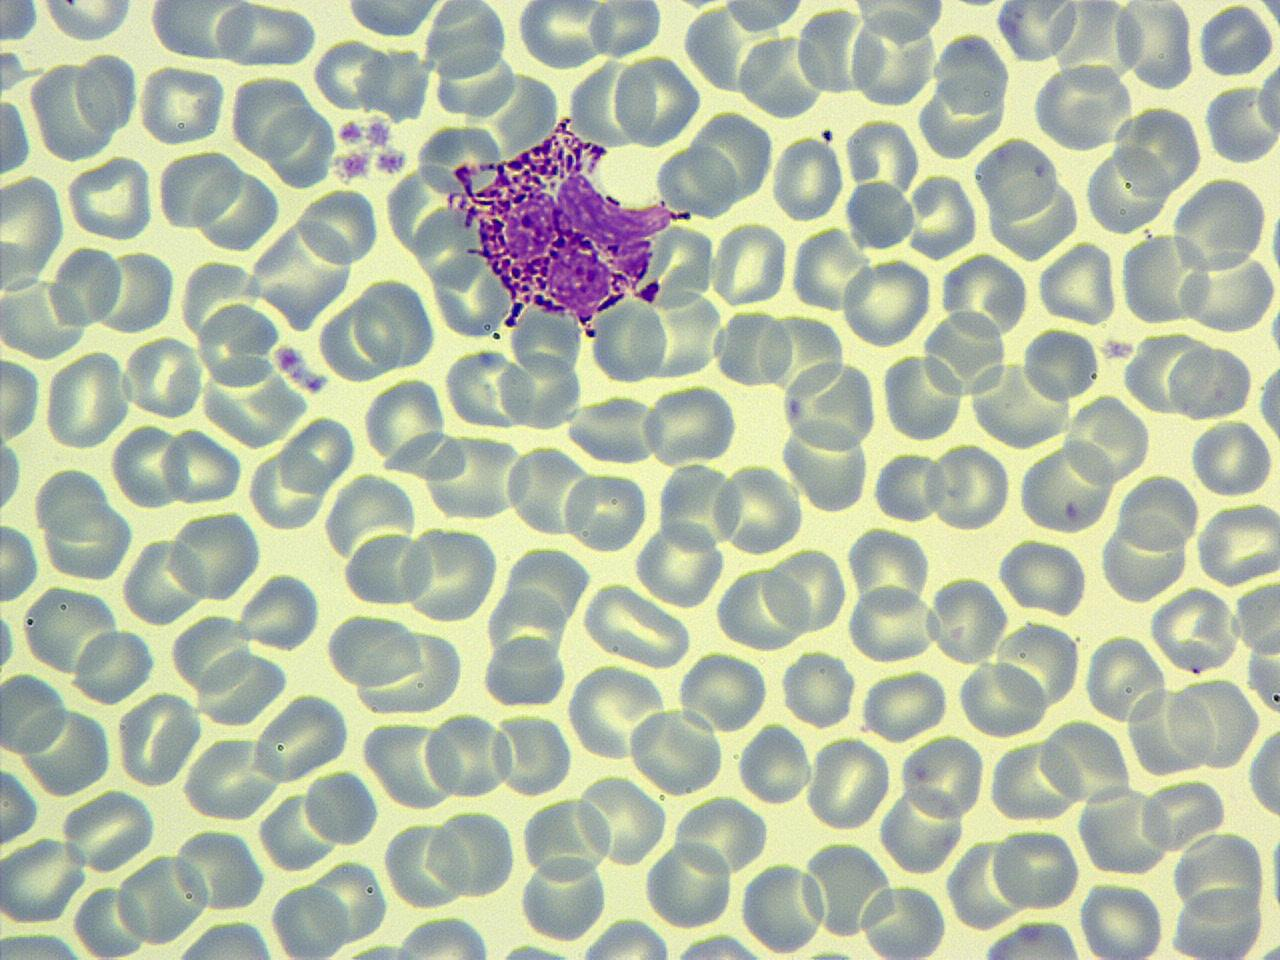Platelets: (0, 602, 18, 678)
RBC: (397, 522, 501, 624), (1170, 172, 1270, 278), (564, 660, 668, 761), (580, 580, 694, 668), (782, 357, 881, 457), (359, 716, 458, 812), (251, 690, 352, 784), (166, 507, 264, 603), (846, 8, 938, 110), (1014, 442, 1116, 534), (43, 346, 132, 451), (321, 469, 418, 565), (972, 359, 1073, 451), (1032, 60, 1134, 151), (1163, 674, 1259, 770), (23, 582, 123, 674), (1176, 247, 1278, 336), (565, 52, 659, 148), (574, 772, 668, 868), (1038, 715, 1134, 808), (712, 460, 805, 556), (840, 256, 934, 350), (628, 705, 725, 796), (782, 415, 870, 515), (183, 731, 279, 821), (804, 734, 892, 832), (670, 794, 772, 878), (1117, 232, 1209, 325), (172, 824, 267, 914), (612, 53, 702, 148), (428, 804, 516, 901), (59, 788, 158, 874), (714, 562, 806, 654), (644, 838, 736, 930), (1062, 392, 1152, 486), (878, 782, 966, 878), (362, 374, 449, 471), (739, 858, 825, 956), (518, 851, 608, 944), (920, 308, 1010, 401), (631, 218, 719, 313), (0, 170, 68, 292), (938, 250, 1030, 340), (116, 690, 202, 786), (412, 118, 510, 202), (520, 793, 610, 884), (635, 520, 726, 610), (1121, 327, 1213, 416), (845, 522, 934, 614), (380, 816, 467, 910), (985, 737, 1081, 822), (1083, 145, 1173, 235), (65, 154, 156, 243), (923, 442, 1012, 533), (0, 834, 88, 926), (641, 384, 739, 466), (988, 825, 1080, 912), (677, 649, 770, 735), (1083, 631, 1167, 726), (353, 275, 435, 372), (1149, 584, 1237, 674), (423, 709, 509, 801), (762, 544, 848, 636), (1166, 881, 1266, 960), (122, 531, 204, 627), (900, 732, 987, 822), (441, 346, 534, 430), (429, 247, 513, 340), (41, 500, 136, 582), (928, 572, 1010, 667), (1115, 0, 1197, 95), (736, 31, 823, 120), (996, 536, 1090, 618), (1196, 498, 1280, 589), (880, 351, 964, 442), (196, 300, 281, 389), (137, 62, 226, 147), (154, 147, 244, 231), (956, 658, 1050, 738), (562, 467, 648, 554), (121, 332, 205, 421), (974, 133, 1059, 220), (325, 612, 422, 688), (845, 582, 937, 662), (1076, 878, 1168, 958), (565, 391, 663, 466), (195, 644, 284, 726), (492, 708, 574, 797), (590, 294, 669, 386), (246, 445, 329, 532), (857, 880, 949, 958), (1189, 416, 1275, 499), (296, 186, 382, 269), (1036, 240, 1118, 327), (1137, 774, 1227, 853), (343, 528, 431, 608), (712, 218, 788, 310), (770, 131, 845, 224), (236, 570, 319, 654), (904, 169, 980, 260), (160, 424, 244, 506), (1168, 340, 1254, 420), (508, 295, 586, 383), (713, 306, 794, 390), (1204, 79, 1280, 168), (262, 101, 338, 190), (430, 44, 518, 120), (860, 668, 950, 742), (736, 720, 812, 806), (110, 422, 184, 510), (481, 632, 568, 706), (71, 627, 153, 705), (780, 646, 856, 730), (311, 36, 392, 114), (844, 114, 920, 197), (300, 768, 379, 847), (270, 880, 348, 960), (1020, 324, 1100, 401), (0, 668, 68, 758), (1197, 2, 1275, 80), (73, 48, 141, 136), (872, 448, 946, 525), (994, 0, 1081, 64), (250, 82, 320, 160), (843, 180, 915, 254), (394, 912, 496, 960), (167, 918, 282, 960), (973, 916, 1087, 958), (584, 0, 664, 59), (35, 0, 136, 45), (576, 916, 672, 960), (342, 0, 445, 39), (848, 0, 948, 40), (0, 354, 42, 444), (0, 760, 40, 849), (0, 519, 40, 604), (1248, 720, 1280, 822), (0, 89, 35, 180), (719, 0, 807, 35), (666, 932, 770, 960), (0, 928, 90, 960), (1255, 51, 1280, 150), (0, 432, 24, 520)
WBC: (452, 117, 674, 322)
